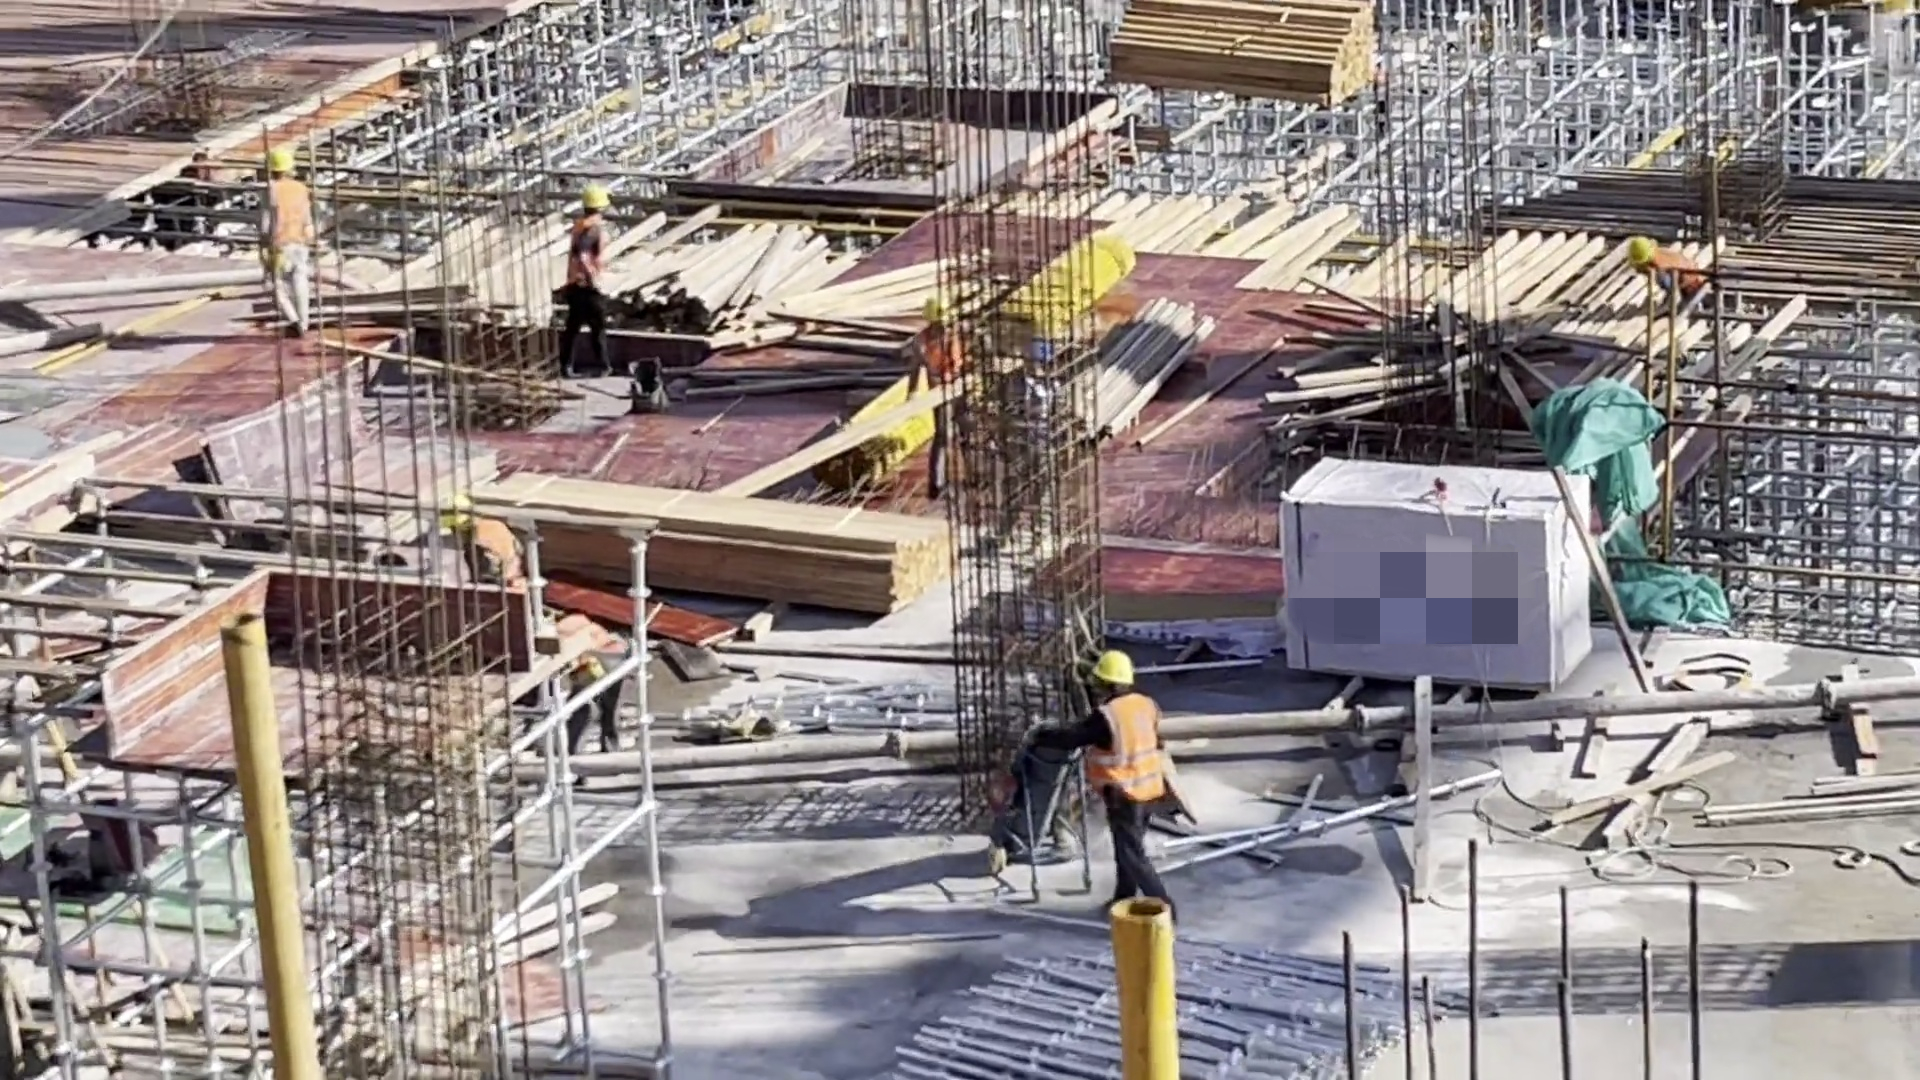helmet: (1088, 651, 1135, 693), (1620, 234, 1659, 268), (258, 148, 299, 180), (431, 499, 468, 532), (922, 295, 955, 324), (580, 186, 610, 215)
person: (1074, 648, 1178, 918), (908, 297, 986, 495), (249, 142, 324, 330), (550, 187, 614, 380), (444, 496, 522, 606), (1617, 232, 1717, 318)
vest: (1090, 702, 1163, 809), (557, 219, 610, 293), (461, 519, 520, 584), (259, 182, 314, 249), (918, 330, 969, 391), (1654, 250, 1701, 297)
